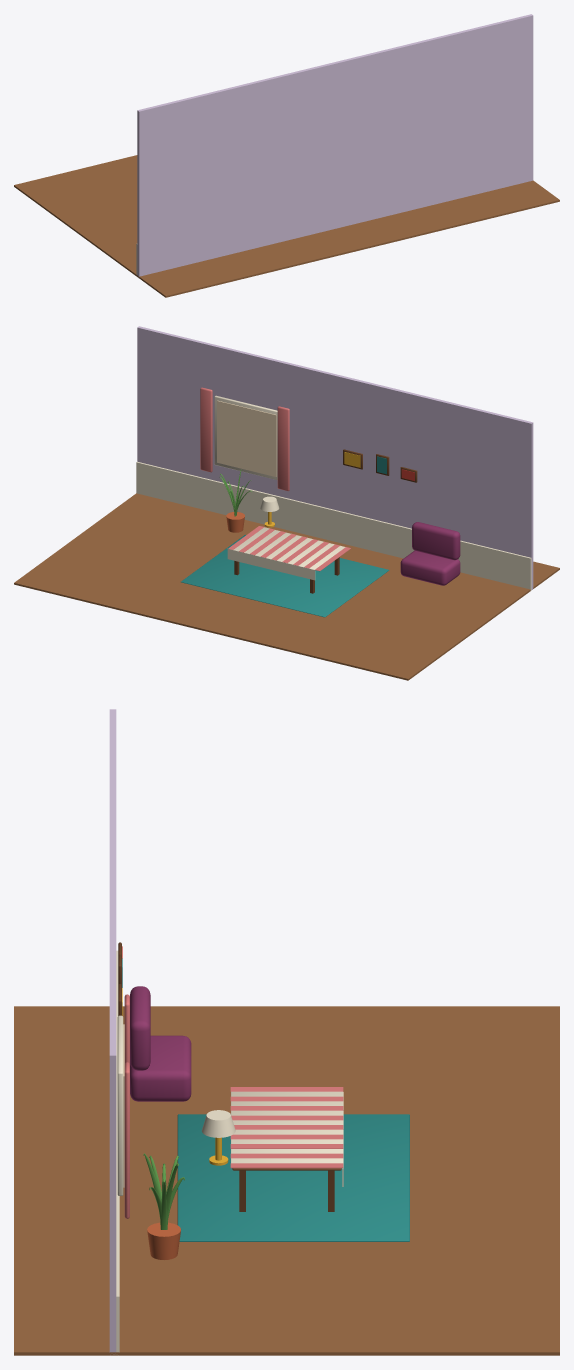
File: reveal_room.fbx
The picture shows the model from 3 angles, top to bottom: view 1: azimuth 30°, elevation 25°; view 2: azimuth 150°, elevation 25°; view 3: azimuth 270°, elevation 25°; orthographic projection. The views are drawn at different scales.
Visible parts, largest first — view 1: reveal_room; view 2: reveal_room; view 3: reveal_room.
Part boxes in pixels (box(x1,y1,x2,y2)): reveal_room: box(14, 14, 559, 297); reveal_room: box(14, 326, 559, 680); reveal_room: box(14, 709, 559, 1355).
Bounding box in the file's own units: 12 × 4.85 × 8.
